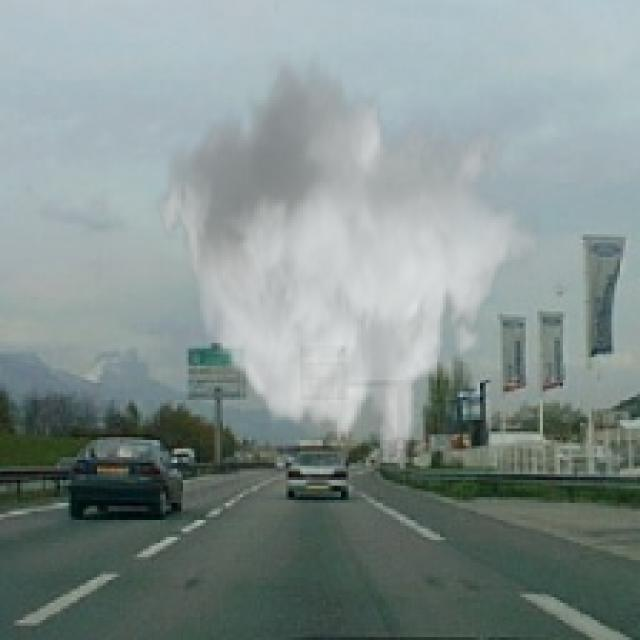Smoke: (155, 52, 540, 474)
